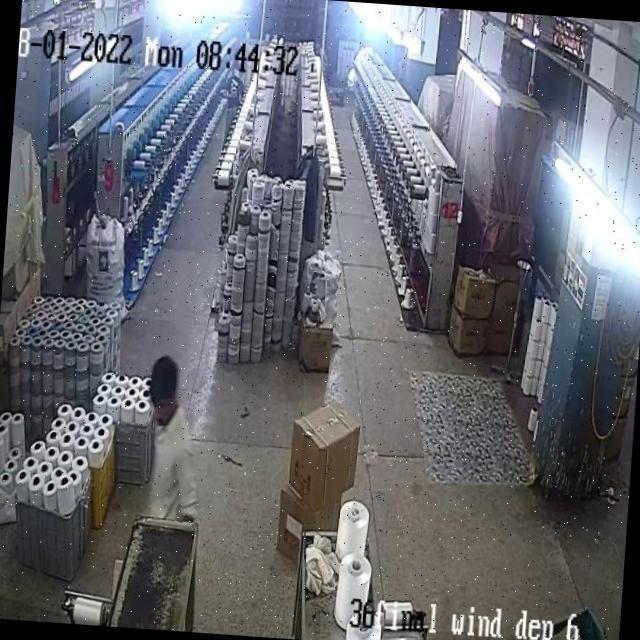person: (135, 356, 204, 520)
